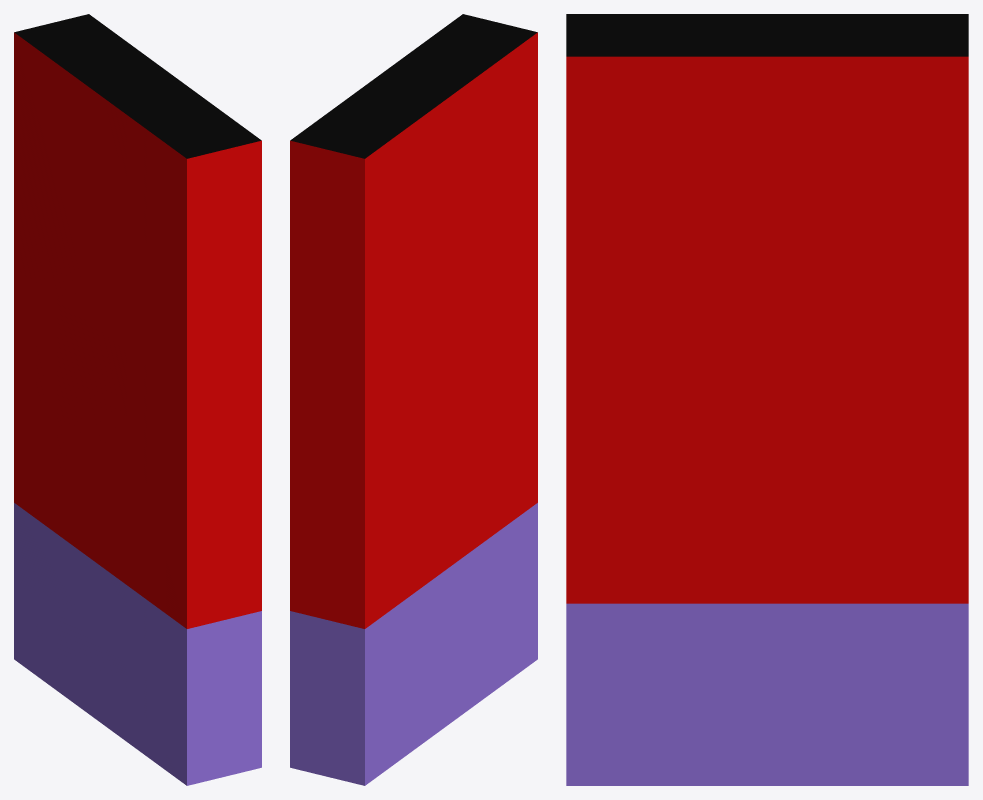
The model's file is Wall4x2.fbx.
3 renders of one model, left to right at view 1: azimuth 30°, elevation 25°; view 2: azimuth 150°, elevation 25°; view 3: azimuth 270°, elevation 25°, orthographic. The views are drawn at different scales.
Parts seen in each view (by area): view 1: Wall_4x2; view 2: Wall_4x2; view 3: Wall_4x2.
Boxes of the visible parts, left/top/right/bottom form: Wall_4x2: left=14, top=14, right=261, bottom=785; Wall_4x2: left=290, top=14, right=537, bottom=785; Wall_4x2: left=566, top=14, right=968, bottom=785.
Size of the model in its own units: 50 by 400 by 200.
